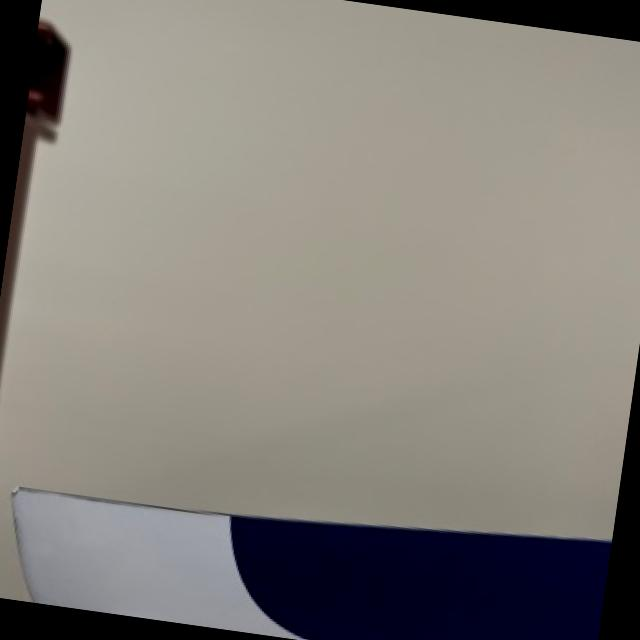healthy: (0, 0, 640, 600), (0, 20, 70, 390)
